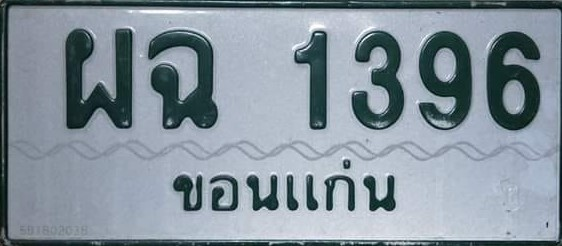txt07: (144, 27, 220, 132)
txt23: (61, 24, 135, 132)
